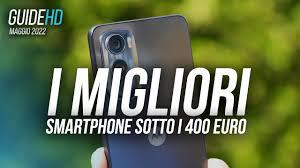Smartphone: (92, 18, 205, 168)
